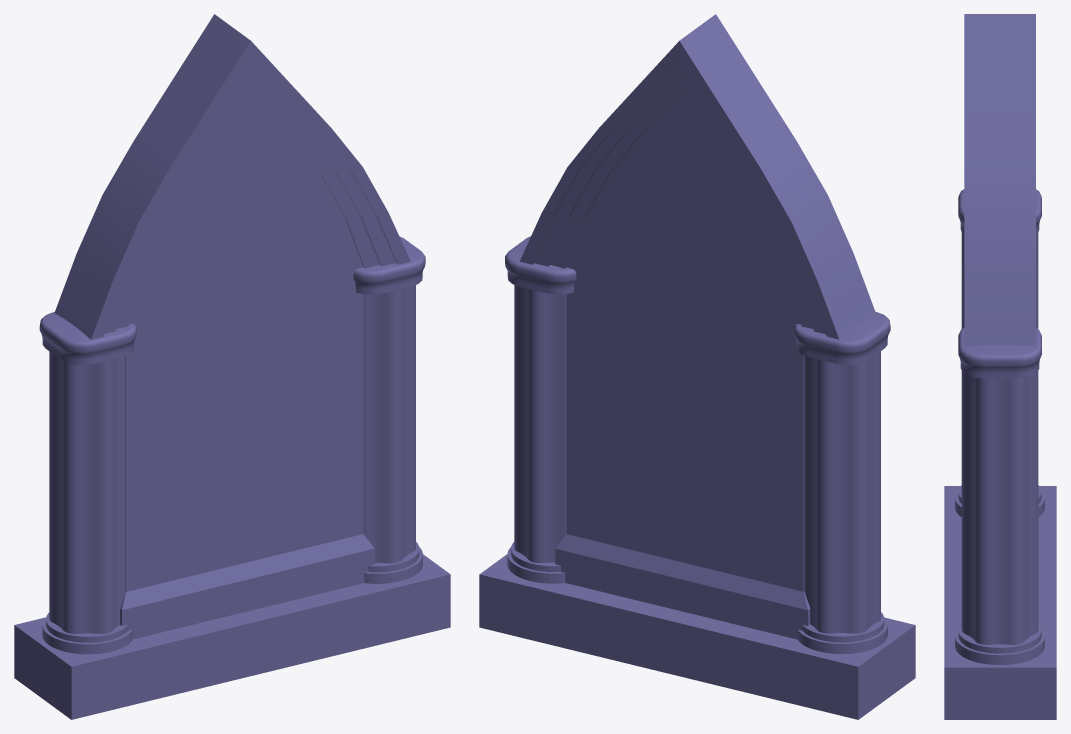
Rendered from MOD_TombStone2.fbx.
The picture shows the model from 3 angles, left to right: view 1: azimuth 30°, elevation 25°; view 2: azimuth 150°, elevation 25°; view 3: azimuth 270°, elevation 25°; orthographic projection.
Parts seen in each view (by area): view 1: TombStone_2; view 2: TombStone_2; view 3: TombStone_2.
Part boxes in pixels (x1,y1,x2,y2): TombStone_2: [14, 14, 450, 719]; TombStone_2: [479, 14, 915, 719]; TombStone_2: [944, 14, 1056, 719].
Bounding box in the file's own units: 330 × 521 × 86.19.
